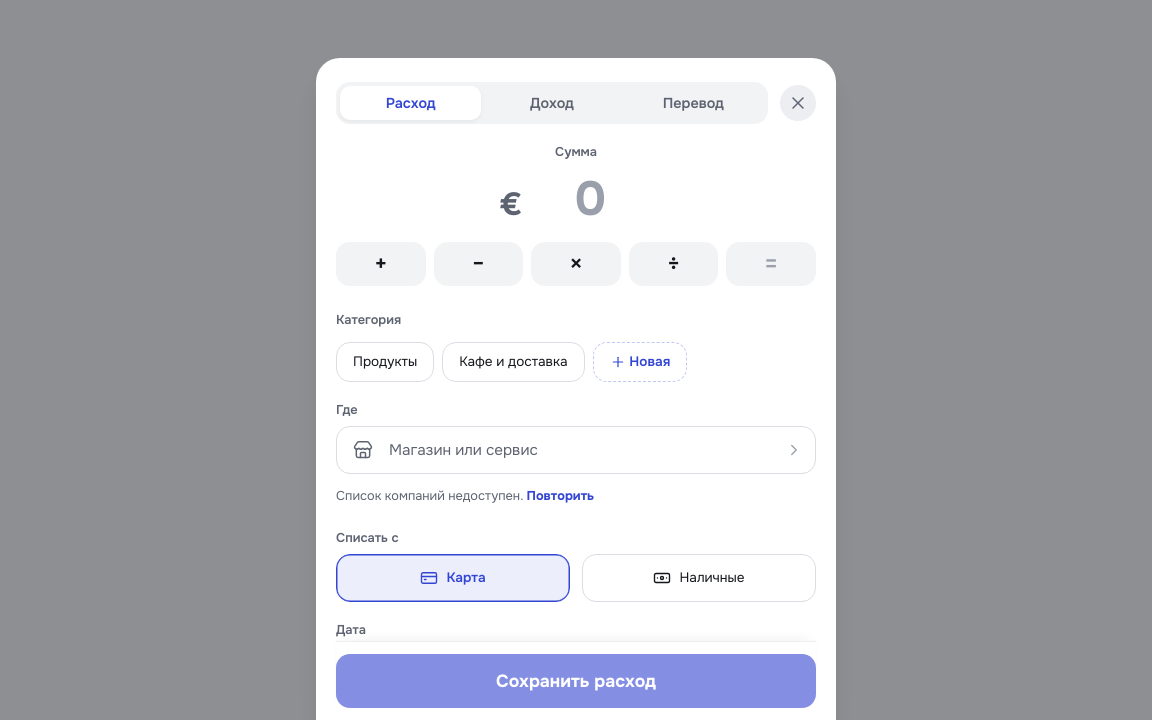
Test: «Где» in the expense form › shows the load error on the row and retries the list
Expected: the text "Список компаний недоступен. Повторить" is shown, [336,482,594,510]
Click the button "Повторить": (560, 496) [526,482,594,510]
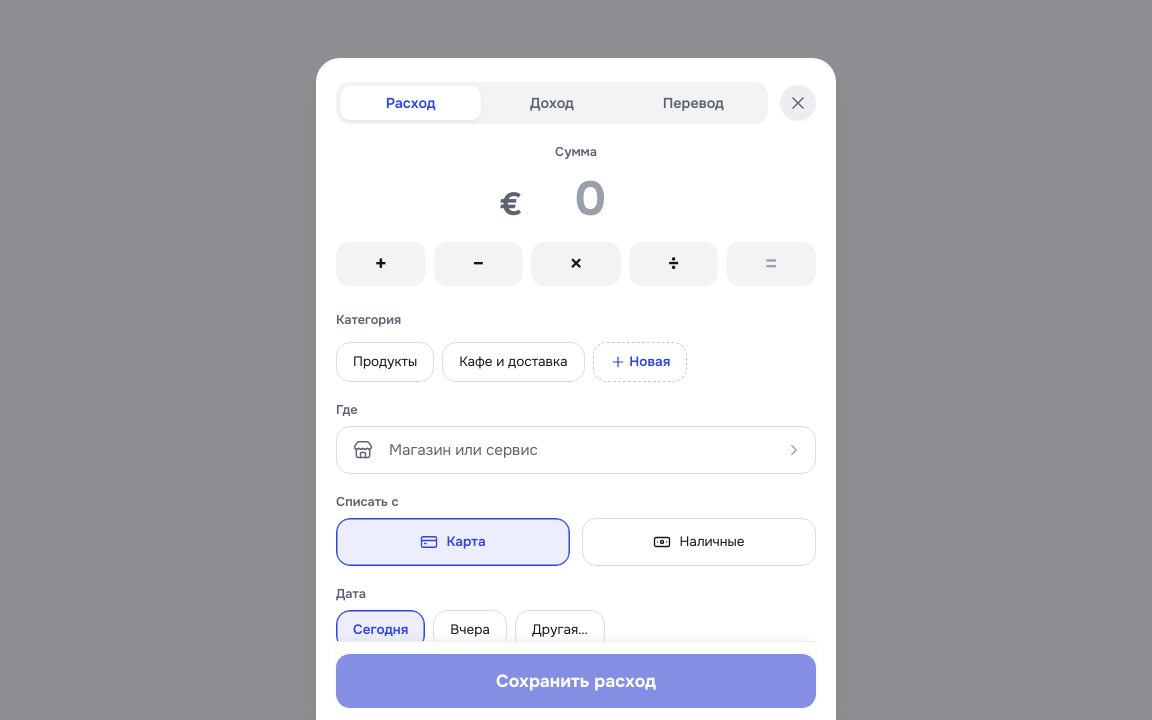
Now the text "Список компаний недоступен." is gone
